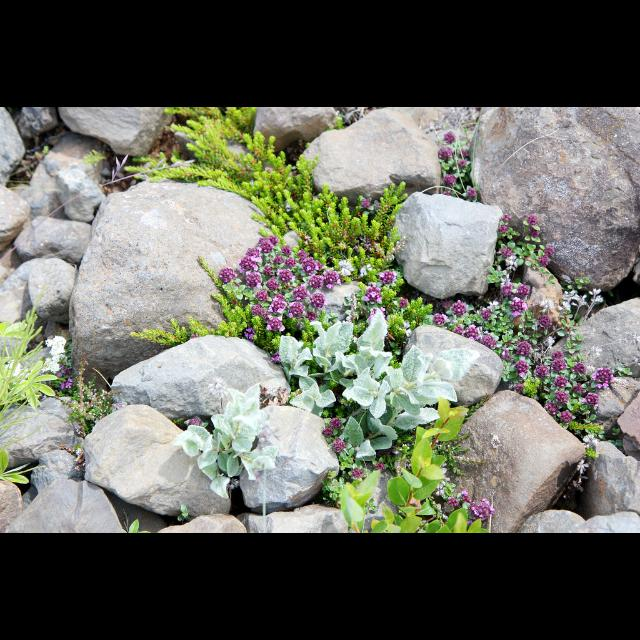Flower: (2, 107, 614, 521), (270, 294, 284, 312)
